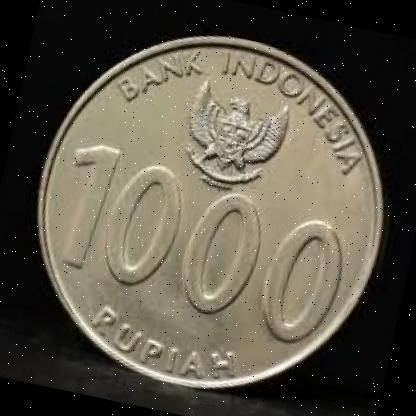coin_1000_e2010: (35, 31, 384, 392)
